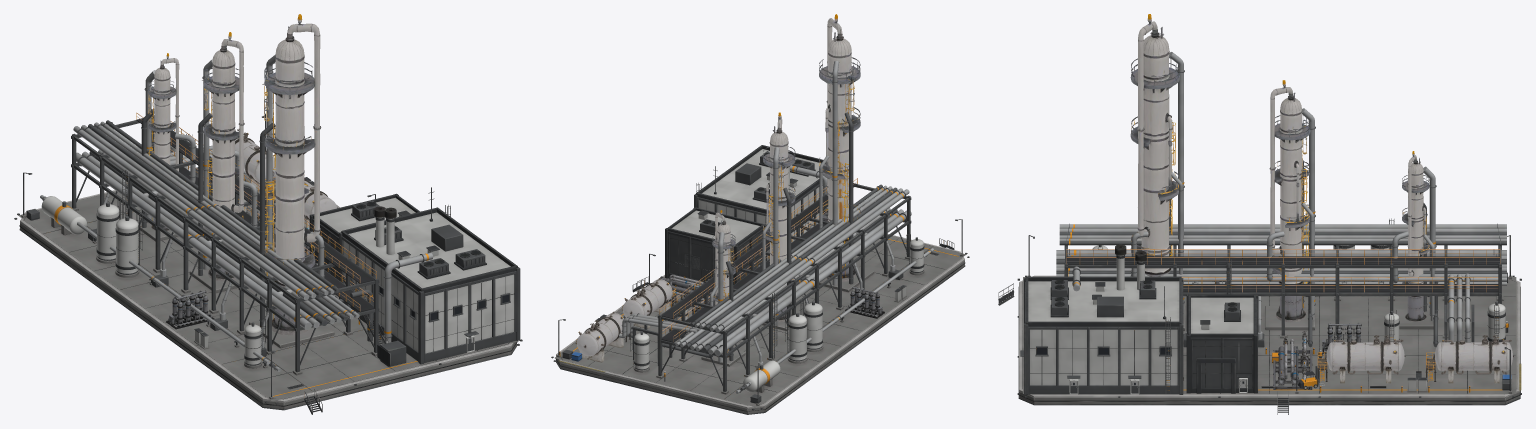
The model's file is refinery.glb.
3 renders of one model, left to right at view 1: azimuth 30°, elevation 25°; view 2: azimuth 150°, elevation 25°; view 3: azimuth 270°, elevation 25°, orthographic. The views are drawn at different scales.
Visible parts, largest first — view 1: hull, parts_colony-distColumn, parts_colony-htankSkid, parts_colony-filterBank; view 2: hull, parts_colony-distColumn, parts_colony-htankSkid, parts_colony-filterBank, parts_colony-manifoldSkid; view 3: hull, parts_colony-distColumn, parts_colony-htankSkid, parts_colony-manifoldSkid, parts_colony-filterBank.
Boxes of the visible parts, x1,y1,x2,y2 form: hull: [14, 54, 522, 414]; parts_colony-distColumn: [147, 14, 321, 335]; parts_colony-htankSkid: [235, 129, 336, 227]; parts_colony-filterBank: [166, 209, 274, 329]; hull: [551, 61, 969, 414]; parts_colony-distColumn: [712, 14, 860, 358]; parts_colony-htankSkid: [577, 278, 676, 362]; parts_colony-filterBank: [692, 287, 884, 318]; parts_colony-manifoldSkid: [660, 274, 711, 308]; hull: [998, 52, 1521, 414]; parts_colony-distColumn: [1130, 14, 1429, 322]; parts_colony-htankSkid: [1317, 335, 1513, 383]; parts_colony-manifoldSkid: [1273, 331, 1312, 389]; parts_colony-filterBank: [1213, 281, 1364, 353].
Size of the model in its own units: 45.28 by 51.78 by 77.28.
Materials: 8 (8 with a texture image).
